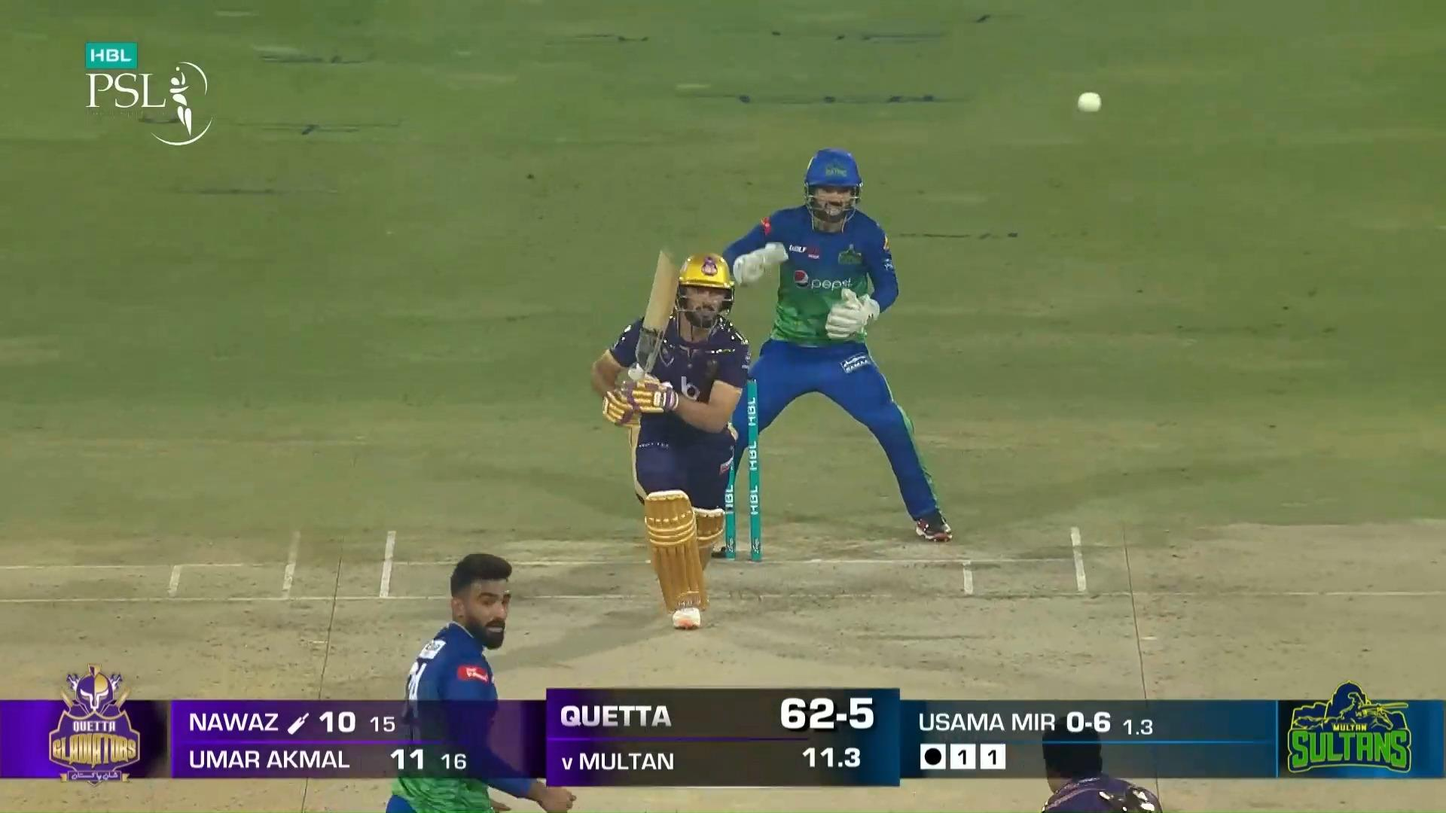batsman: (591, 248, 751, 630)
